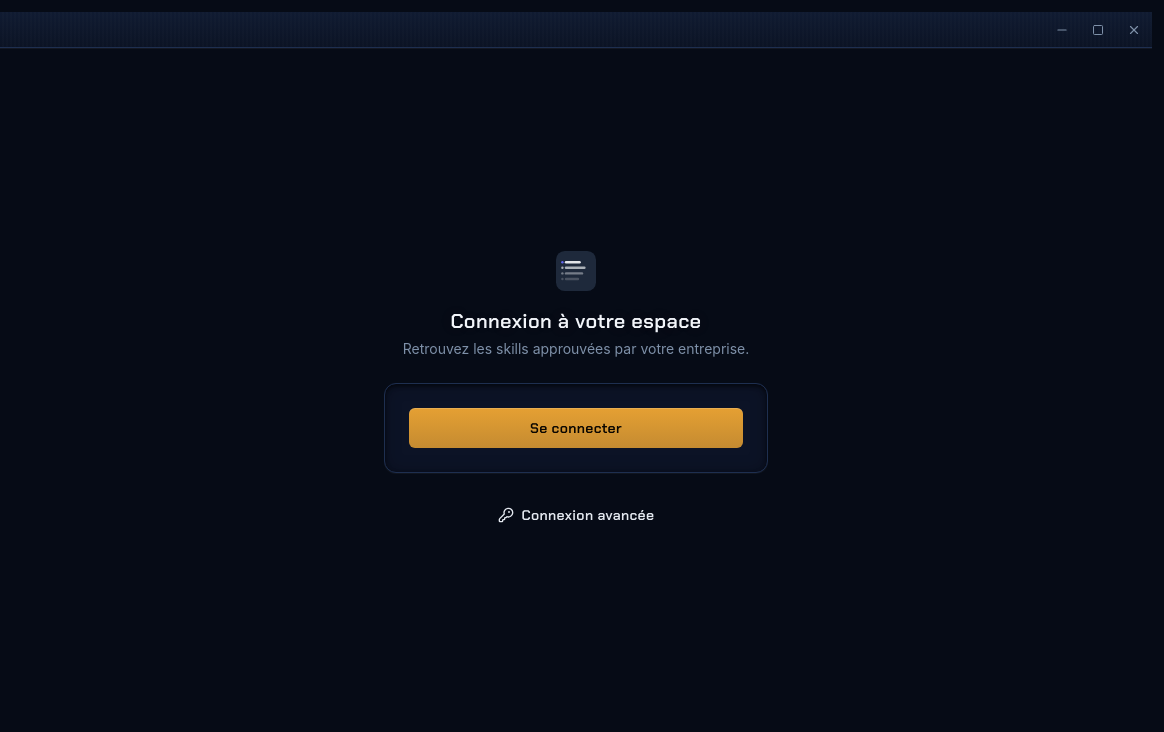
Test: employee login › keeps manual token login behind advanced disclosure
What coordinates should you click on to do the following:
click the button "Connexion avancée"
I would click on:
 (576, 515)
Its box is [384,497,768,533].
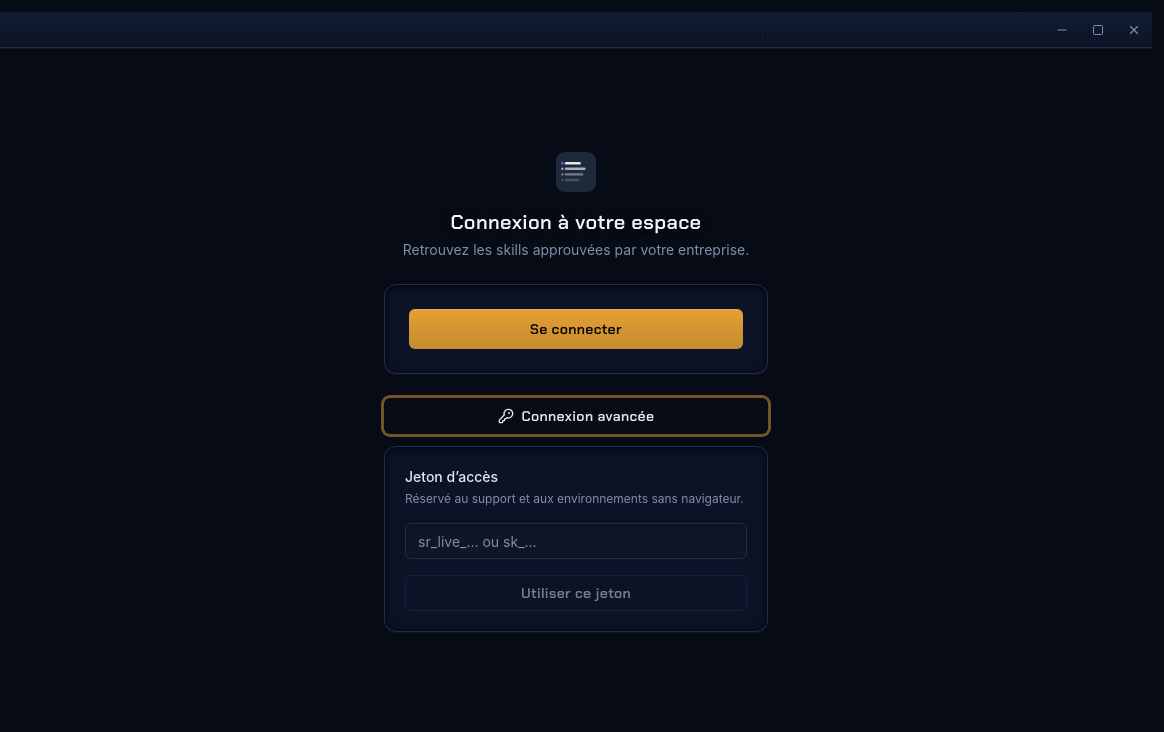
Now the password field with placeholder "sr_live_... ou sk_..." is shown, box [405,523,747,559]
